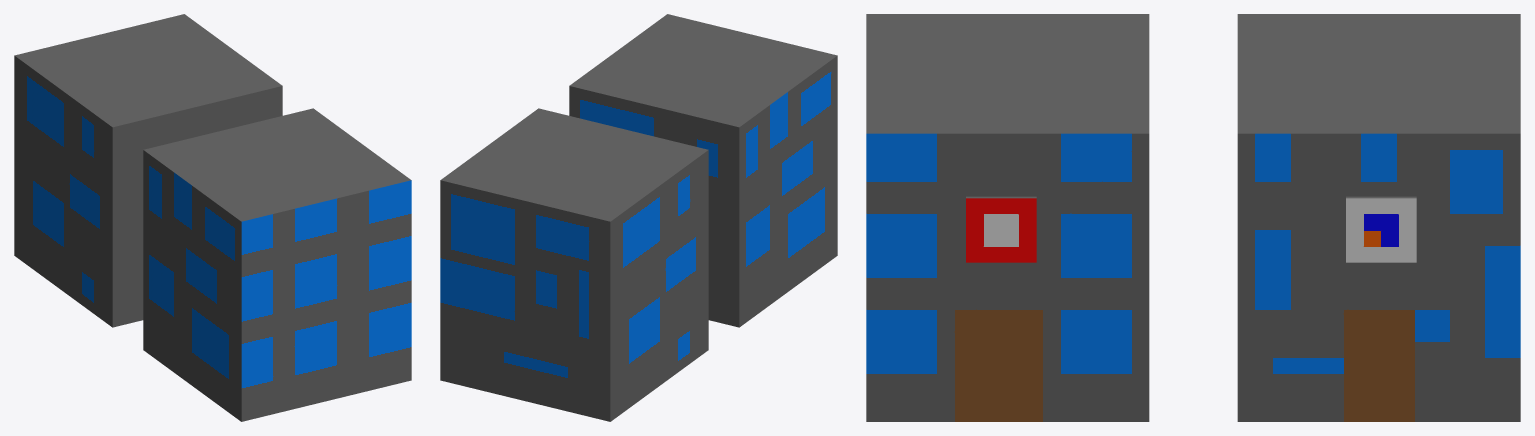
File: office.gltf
3 renders of one model, left to right at view 1: azimuth 30°, elevation 25°; view 2: azimuth 150°, elevation 25°; view 3: azimuth 270°, elevation 25°, orthographic. The views are drawn at different scales.
Parts seen in each view (by area): view 1: cube (×2); view 2: cube (×2); view 3: cube (×4).
Boxes of the visible parts, x1,y1,x2,y2 form: cube (×2): (14,14,411,421); cube (×2): (440,14,837,421); cube (×4): (866,14,1520,421).
Size of the model in its own units: 8.19 by 9 by 18.5.
Materials: 1 (1 with a texture image).
